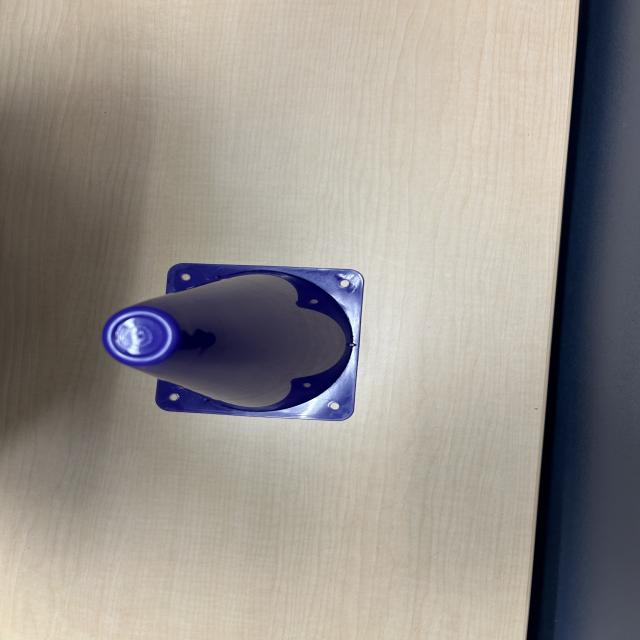purple cone: (102, 256, 391, 424)
